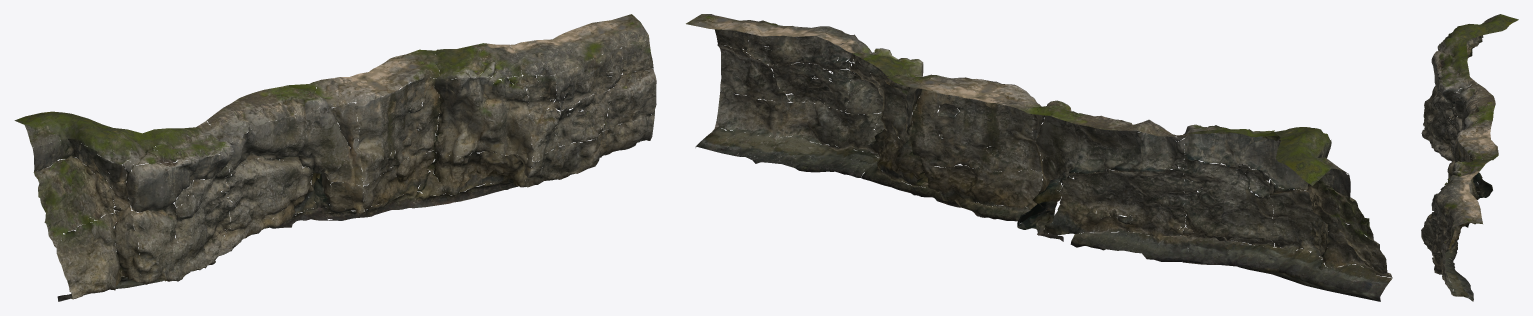
Rendered from coastal_cliff_02.glb.
3 renders of one model, left to right at view 1: azimuth 30°, elevation 25°; view 2: azimuth 150°, elevation 25°; view 3: azimuth 270°, elevation 25°, orthographic. The views are drawn at different scales.
Parts seen in each view (by area): view 1: coastal_cliff_02_LOD0; view 2: coastal_cliff_02_LOD0; view 3: coastal_cliff_02_LOD0.
Part boxes in pixels (bbox=[...]): coastal_cliff_02_LOD0: bbox=[14, 14, 656, 301]; coastal_cliff_02_LOD0: bbox=[686, 14, 1392, 301]; coastal_cliff_02_LOD0: bbox=[1421, 14, 1518, 301].
Bounding box in the file's own units: 40.96 × 10.07 × 8.63.
Materials: 1 (1 with a texture image).
